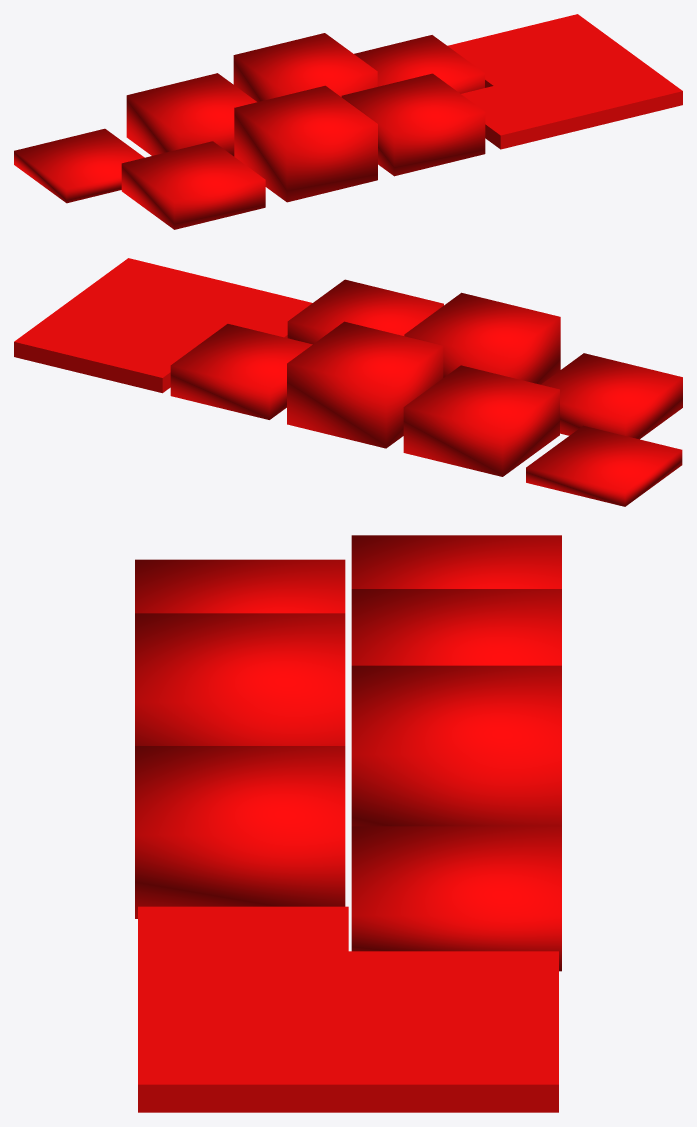
File: steppingstones.obj
3 views of the same model, one above another, from view 1: azimuth 30°, elevation 25°; view 2: azimuth 150°, elevation 25°; view 3: azimuth 270°, elevation 25° (orthographic). The views are drawn at different scales.
Visible parts, largest first — view 1: node.007_FinalPlatform-mesh, node.003_Stone20cm-mesh, node.005_Stone15cm-mesh, node.001_Stone10cm-mesh.001, node.002_Stone15cm-mesh, node.004_Stone20cm-mesh, node_Stone5cm-mesh, node.006_Stone10cm-mesh.001; view 2: node.007_FinalPlatform-mesh, node.004_Stone20cm-mesh, node.002_Stone15cm-mesh, node.003_Stone20cm-mesh, node.006_Stone10cm-mesh.001, node.001_Stone10cm-mesh.001, node_Stone5cm-mesh, node.005_Stone15cm-mesh; view 3: node.007_FinalPlatform-mesh, node.004_Stone20cm-mesh, node.005_Stone15cm-mesh, node.003_Stone20cm-mesh, node.006_Stone10cm-mesh.001, node.002_Stone15cm-mesh, node.001_Stone10cm-mesh.001, node_Stone5cm-mesh.
Part boxes in pixels (x1,y1,x2,y2): node.007_FinalPlatform-mesh: [447, 14, 682, 149]; node.003_Stone20cm-mesh: [234, 85, 377, 202]; node.005_Stone15cm-mesh: [341, 73, 485, 176]; node.001_Stone10cm-mesh.001: [121, 141, 265, 229]; node.002_Stone15cm-mesh: [126, 73, 256, 156]; node.004_Stone20cm-mesh: [233, 33, 377, 101]; node_Stone5cm-mesh: [14, 128, 144, 203]; node.006_Stone10cm-mesh.001: [354, 35, 484, 93]; node.007_FinalPlatform-mesh: [14, 258, 312, 393]; node.004_Stone20cm-mesh: [287, 321, 443, 448]; node.002_Stone15cm-mesh: [403, 365, 559, 476]; node.003_Stone20cm-mesh: [404, 292, 560, 384]; node.006_Stone10cm-mesh.001: [170, 324, 312, 419]; node.001_Stone10cm-mesh.001: [541, 353, 682, 439]; node_Stone5cm-mesh: [526, 425, 682, 506]; node.005_Stone15cm-mesh: [287, 279, 443, 344]; node.007_FinalPlatform-mesh: [138, 906, 558, 1112]; node.004_Stone20cm-mesh: [351, 665, 561, 826]; node.005_Stone15cm-mesh: [135, 746, 345, 918]; node.003_Stone20cm-mesh: [135, 613, 345, 745]; node.006_Stone10cm-mesh.001: [351, 826, 561, 971]; node.002_Stone15cm-mesh: [351, 589, 561, 665]; node.001_Stone10cm-mesh.001: [135, 559, 345, 613]; node_Stone5cm-mesh: [351, 535, 561, 588].
Bounding box in the file's own units: 2.1 × 0.2 × 0.69.
